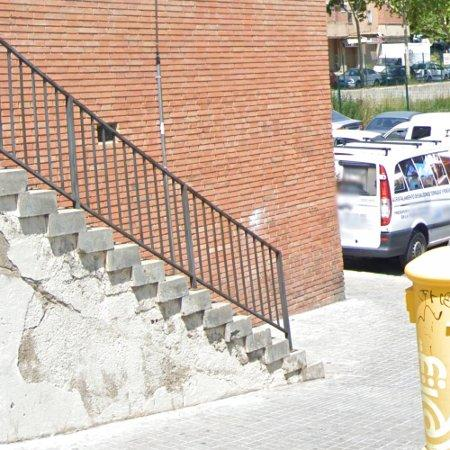stairs: (0, 170, 325, 382)
